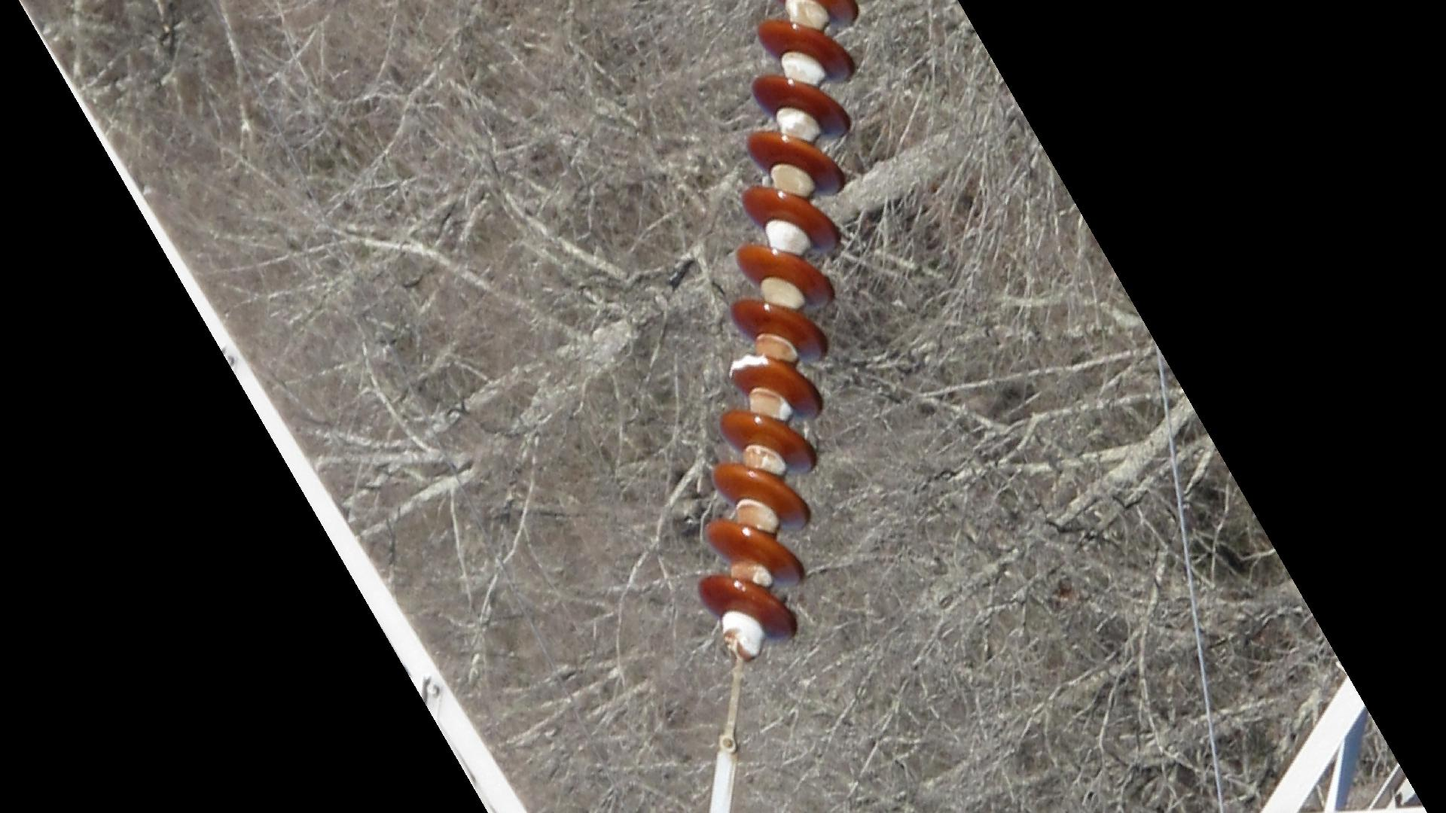insulator: (693, 1, 864, 650)
insulator_breakage: (720, 350, 778, 386)
